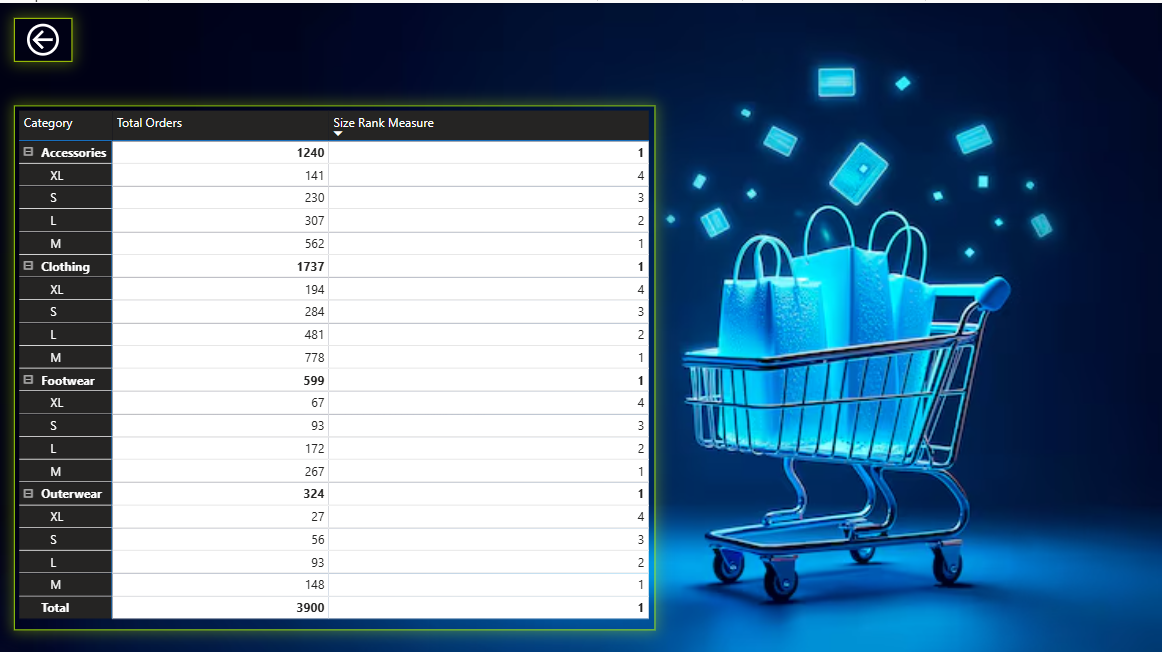

This screenshot's page, from the dashboard's own definition file:
{"tool":"powerbi","page":{"name":"Q18 – Best-selling size per category","canvas":[1280,720],"ordinal":18},"visuals":[{"type":"pivotTable","fields":{"Rows":["customer.Category","customer.Size"],"Values":["measure.Total Orders","measure.Size Rank Measure"]},"box":[208,32,832,576],"z":0}]}

Visuals, with their boxes on the page's 1280x720 design canvas (x1, y1, x2, y2). These are canvas units, not pixel positions in the 1162x652 screenshot, which may show the page scaled, cropped or inside an application window:
pivotTable - customer.Category x customer.Size: (x1=208, y1=32, x2=1040, y2=608)
